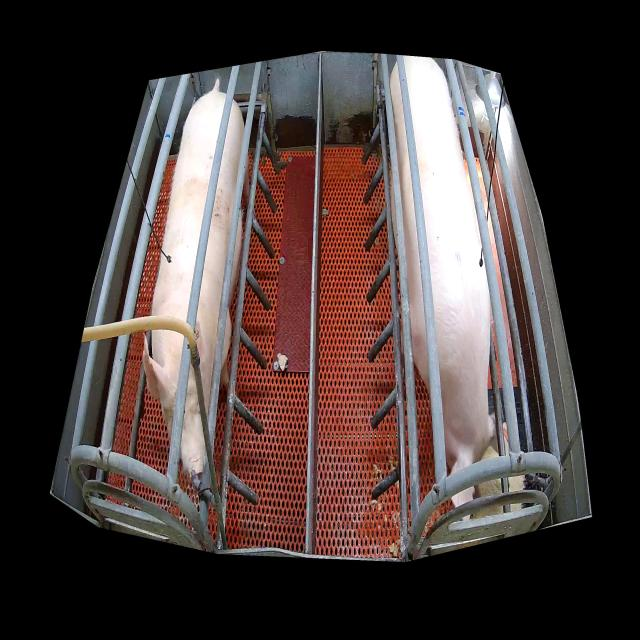pig: (390, 57, 497, 508), (143, 89, 251, 487)
